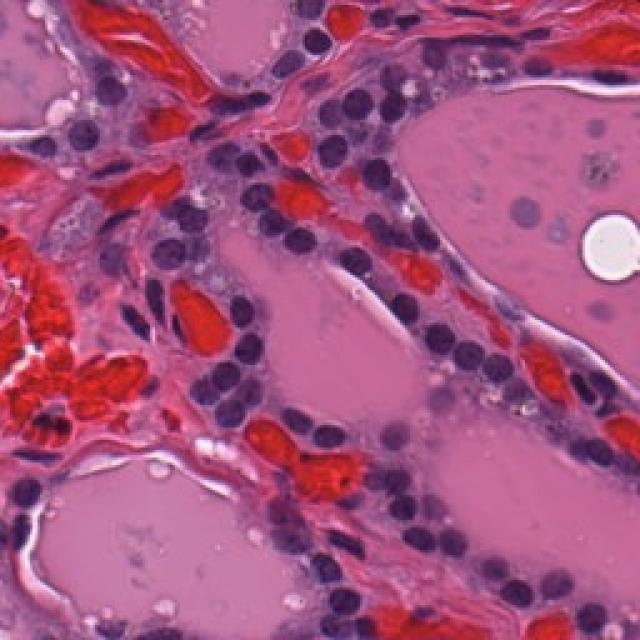normal: (319, 62, 389, 137), (368, 279, 429, 355), (387, 509, 461, 571), (315, 235, 395, 289), (485, 563, 557, 621), (303, 120, 361, 191), (439, 324, 495, 396), (265, 216, 326, 280), (348, 136, 401, 208), (256, 389, 314, 454), (288, 10, 345, 74), (199, 385, 247, 459), (212, 278, 268, 338), (63, 101, 113, 161), (369, 70, 407, 132), (394, 209, 441, 254), (231, 174, 276, 218), (207, 355, 245, 401)
